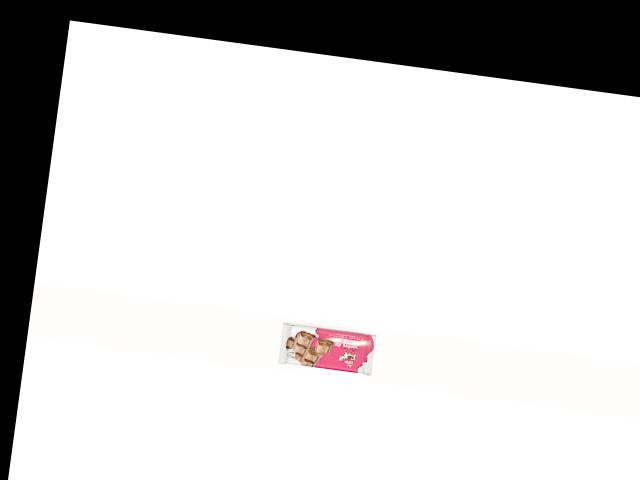chocolate: (276, 300, 395, 372)
